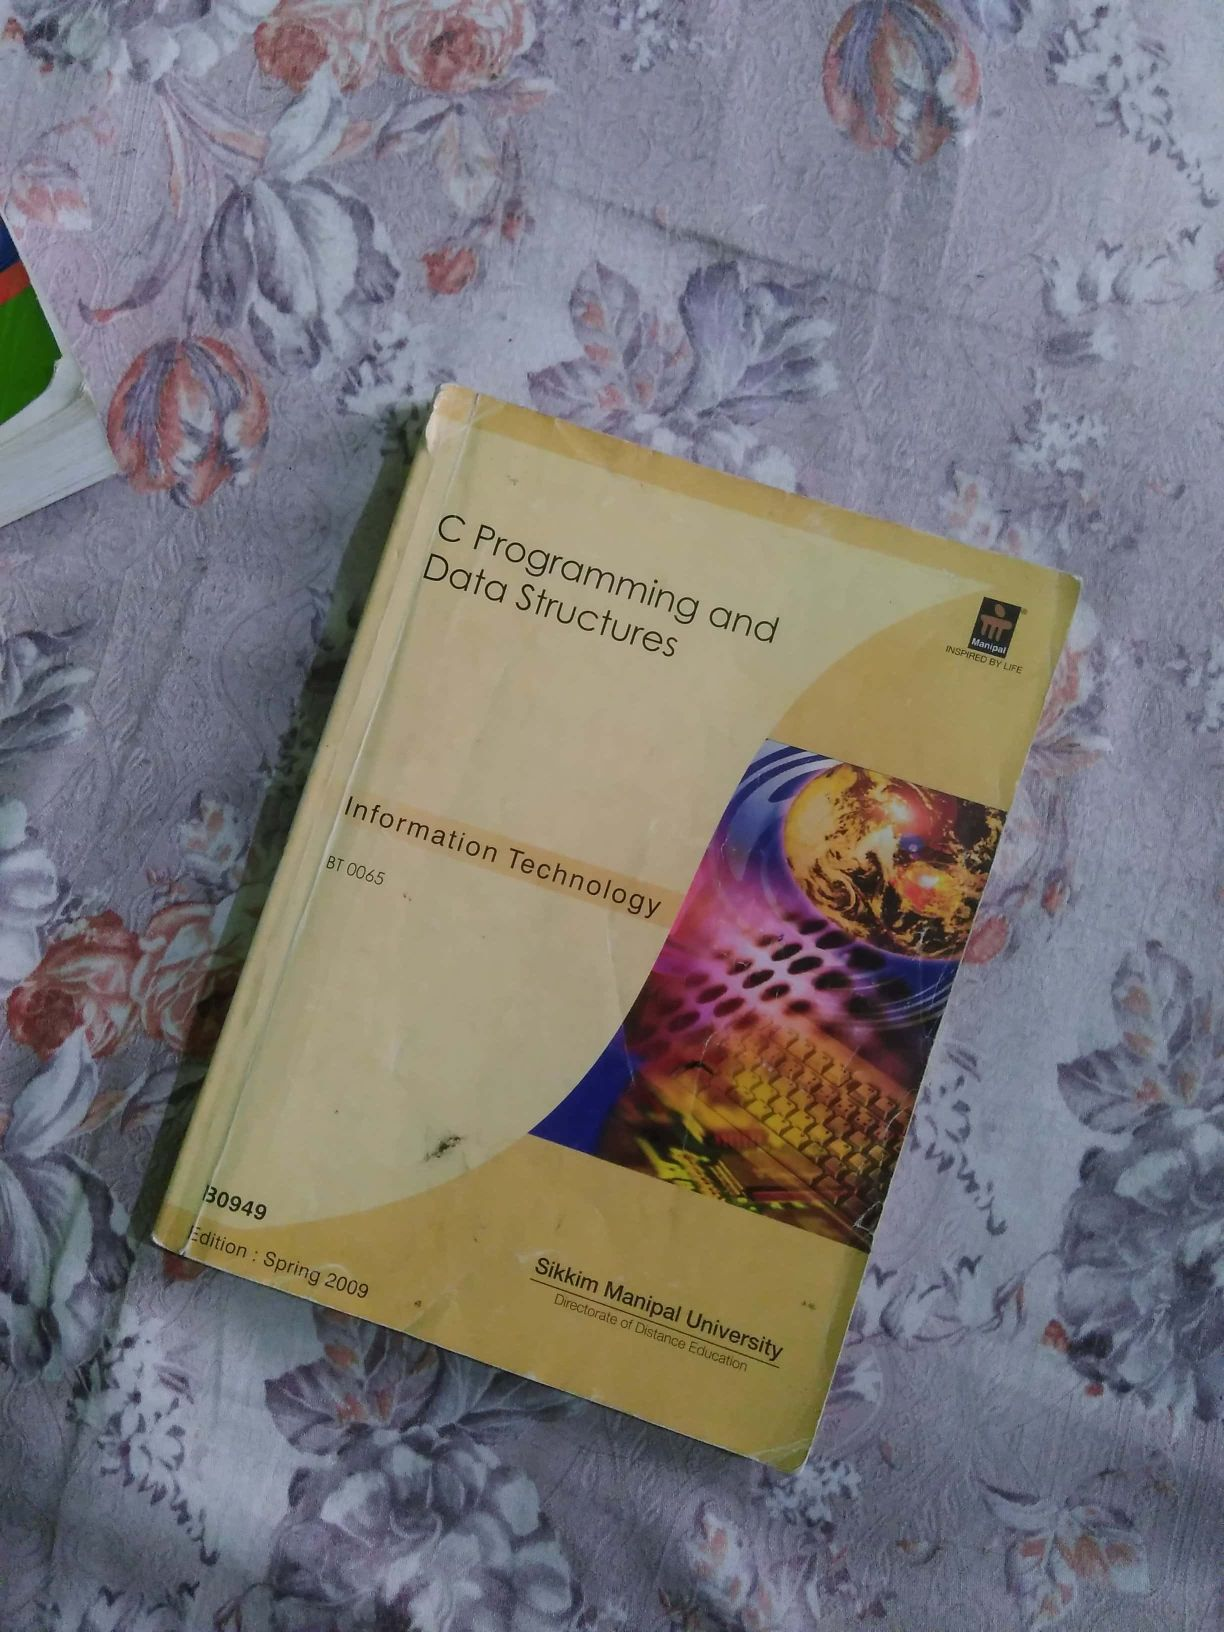clang: (141, 361, 1131, 1493)
